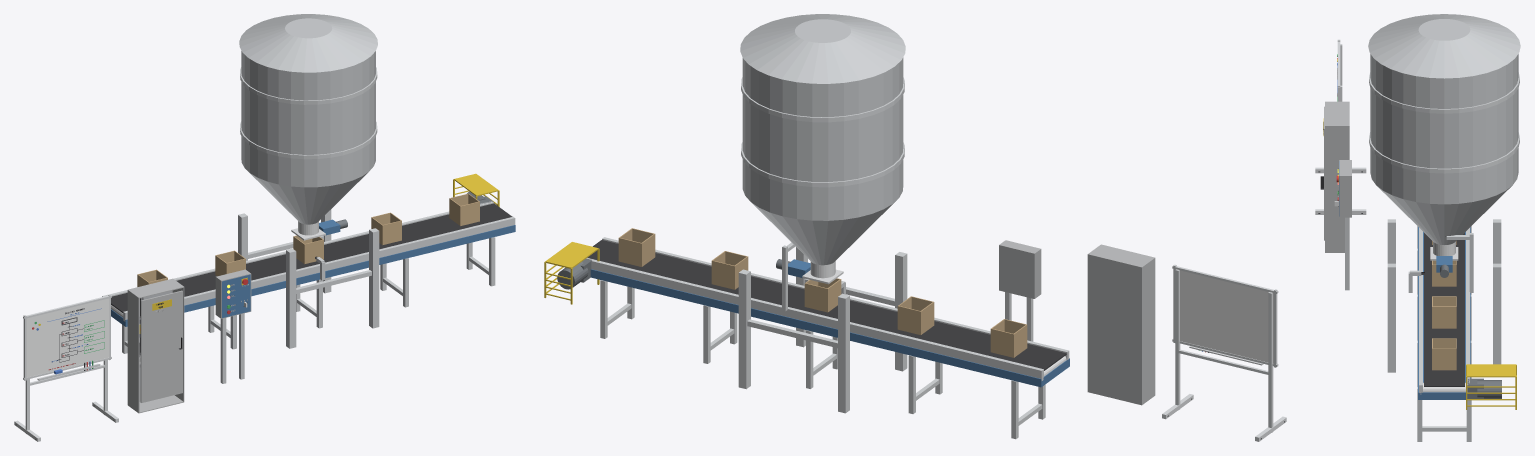
File: silo_cell.glb
3 renders of one model, left to right at view 1: azimuth 30°, elevation 25°; view 2: azimuth 150°, elevation 25°; view 3: azimuth 270°, elevation 25°, orthographic. The views are drawn at different scales.
Parts seen in each view (by area): view 1: Silo_Shell, Silo_Roof, WB_Panel, PLC_Door, Conv_Belt, Conv_SideRail_L, Silo_Hopper, Conv_Frame, PLC_Cab_Left, Silo_Leg_-1-1, Silo_Leg_1-1, Panel_Face (+7 smaller); view 2: Silo_Shell, Silo_Roof, PLC_Cab_Back, Conv_Belt, WB_Panel, Conv_SideRail_R, Conv_Frame, Silo_Hopper, Panel_Body, PLC_Cab_Left, Silo_Leg_11, Silo_Leg_-11 (+9 smaller); view 3: Silo_Shell, Silo_Roof, Conv_Belt, Silo_Hopper, PLC_Cab_Right, Silo_Leg_1-1, Conv_Frame, Silo_Band_0, Silo_Leg_11, Silo_Band_1, Panel_Body, Conv_Guard_Top (+20 smaller).
Part boxes in pixels (left/top/right/bottom): Silo_Shell: left=241, top=51, right=375, bottom=187; Silo_Roof: left=239, top=14, right=377, bottom=72; WB_Panel: left=26, top=298, right=109, bottom=377; PLC_Door: left=140, top=290, right=182, bottom=402; Conv_Belt: left=111, top=203, right=512, bottom=312; Conv_SideRail_L: left=123, top=216, right=515, bottom=321; Silo_Hopper: left=247, top=170, right=368, bottom=224; Conv_Frame: left=111, top=225, right=515, bottom=326; PLC_Cab_Left: left=127, top=290, right=139, bottom=412; Silo_Leg_-1-1: left=286, top=248, right=296, bottom=348; Silo_Leg_1-1: left=369, top=228, right=379, bottom=328; Panel_Face: left=222, top=274, right=250, bottom=317; Silo_Shell: left=742, top=57, right=903, bottom=220; Silo_Roof: left=740, top=14, right=905, bottom=83; PLC_Cab_Back: left=1088, top=254, right=1141, bottom=403; Conv_Belt: left=587, top=240, right=1066, bottom=370; WB_Panel: left=1175, top=269, right=1273, bottom=363; Conv_SideRail_R: left=586, top=258, right=1043, bottom=380; Conv_Frame: left=590, top=269, right=1069, bottom=387; Silo_Hopper: left=751, top=200, right=896, bottom=265; Panel_Body: left=999, top=240, right=1041, bottom=298; PLC_Cab_Left: left=1141, top=258, right=1155, bottom=405; Silo_Leg_11: left=738, top=269, right=750, bottom=389; Silo_Leg_-11: left=838, top=293, right=849, bottom=413; Silo_Shell: left=1370, top=54, right=1518, bottom=204; Silo_Roof: left=1368, top=14, right=1520, bottom=78; Conv_Belt: left=1424, top=233, right=1464, bottom=386; Silo_Hopper: left=1377, top=185, right=1512, bottom=244; PLC_Cab_Right: left=1325, top=125, right=1348, bottom=252; Silo_Leg_1-1: left=1387, top=263, right=1395, bottom=372; Conv_Frame: left=1418, top=227, right=1470, bottom=399; Silo_Band_0: left=1369, top=132, right=1519, bottom=173; Silo_Leg_11: left=1493, top=263, right=1501, bottom=364; Silo_Band_1: left=1369, top=72, right=1519, bottom=113; Panel_Body: left=1339, top=160, right=1351, bottom=217; Conv_Guard_Top: left=1466, top=364, right=1515, bottom=377.
Bounding box in the file's own units: 8.21 × 4.27 × 2.5.
